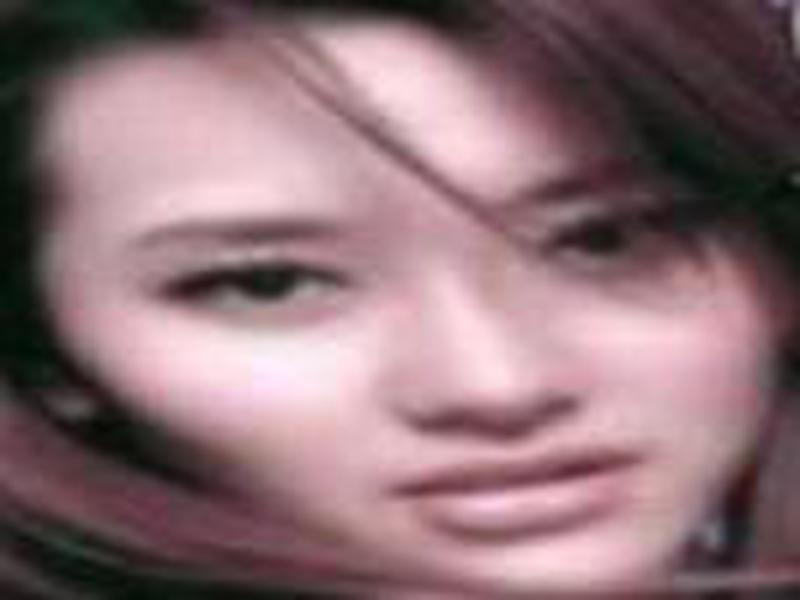without_mask: (40, 78, 774, 591)
